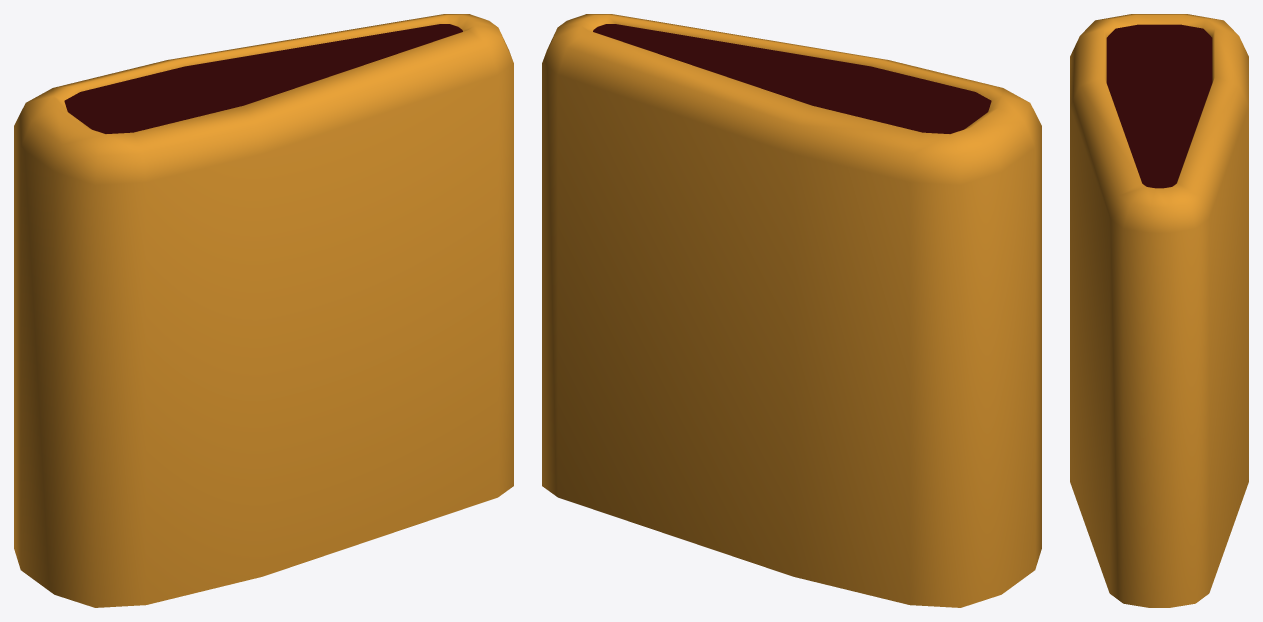
The model's file is pinball_gate.gltf.
3 renders of one model, left to right at view 1: azimuth 30°, elevation 25°; view 2: azimuth 150°, elevation 25°; view 3: azimuth 270°, elevation 25°, orthographic. The views are drawn at different scales.
Parts seen in each view (by area): view 1: flipper; view 2: flipper; view 3: flipper.
Boxes of the visible parts, x1,y1,x2,y2 form: flipper: (14,14,513,607); flipper: (542,14,1041,607); flipper: (1070,14,1248,607).
Bounding box in the file's own units: 0.16 × 0.15 × 0.06.
